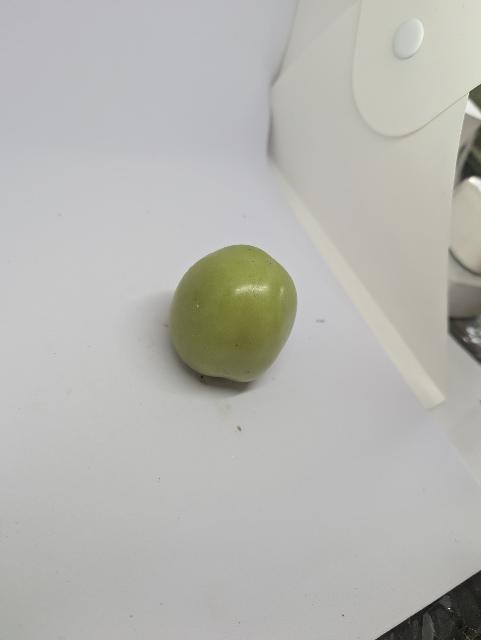green: (165, 238, 307, 396)
